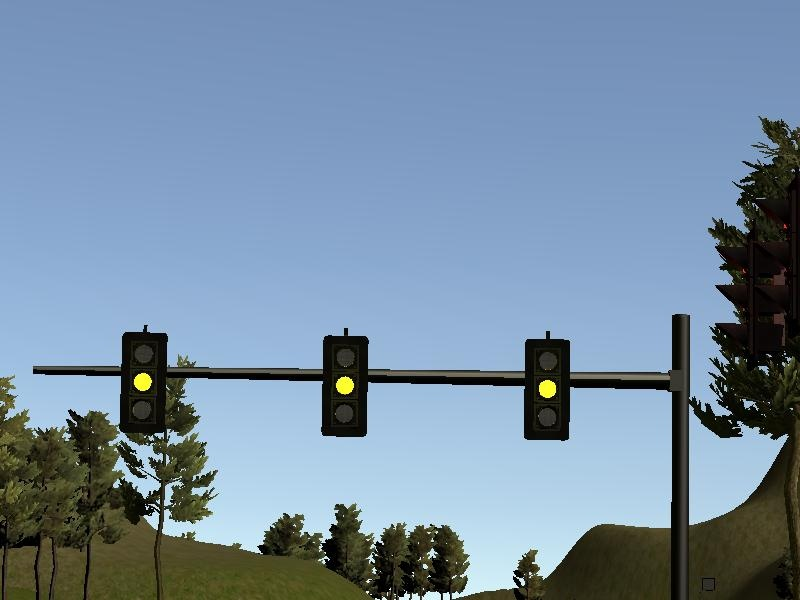YELLOW: (319, 325, 370, 438), (117, 323, 168, 436), (522, 331, 570, 441)
